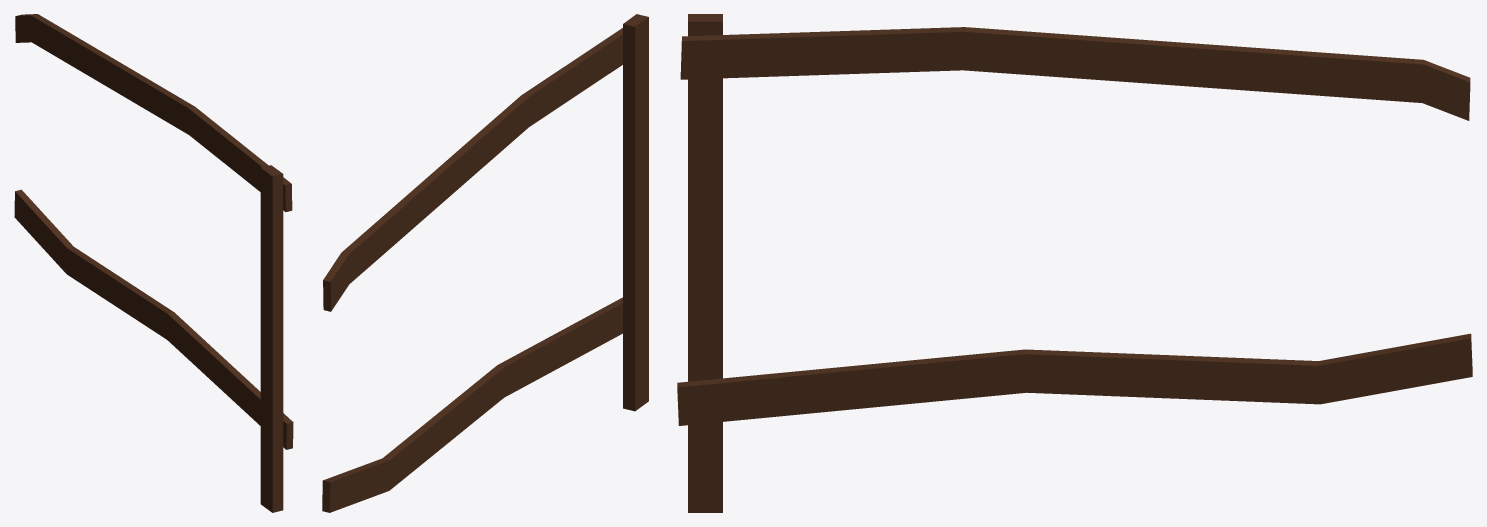
The model's file is wfens.fbx.
3 renders of one model, left to right at view 1: azimuth 30°, elevation 25°; view 2: azimuth 150°, elevation 25°; view 3: azimuth 270°, elevation 25°, orthographic. The views are drawn at different scales.
Visible parts, largest first — view 1: Cube.141; view 2: Cube.141; view 3: Cube.141.
Boxes of the visible parts, <box> form: Cube.141: <box>14,14,293,512</box>; Cube.141: <box>322,14,648,512</box>; Cube.141: <box>677,14,1472,512</box>.
Bounding box in the file's own units: 19.58 × 365 × 535.
